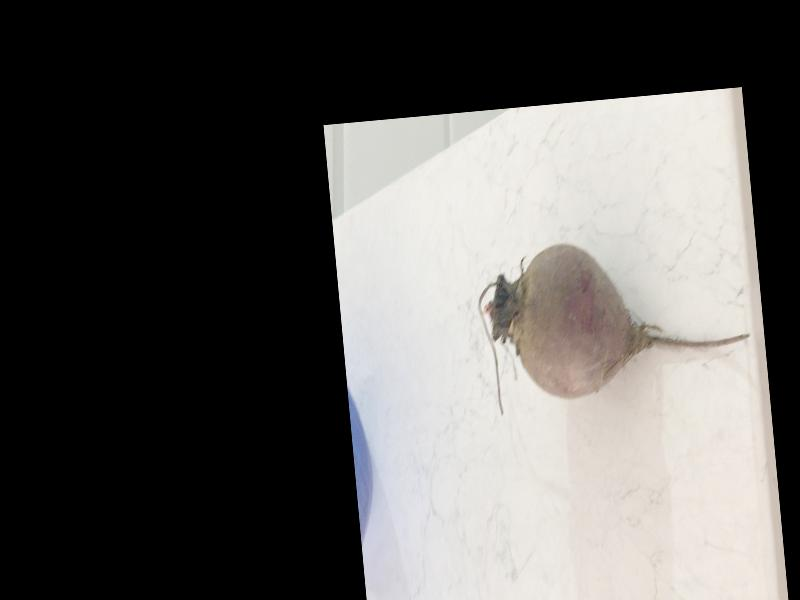Beet: (472, 229, 754, 418)
